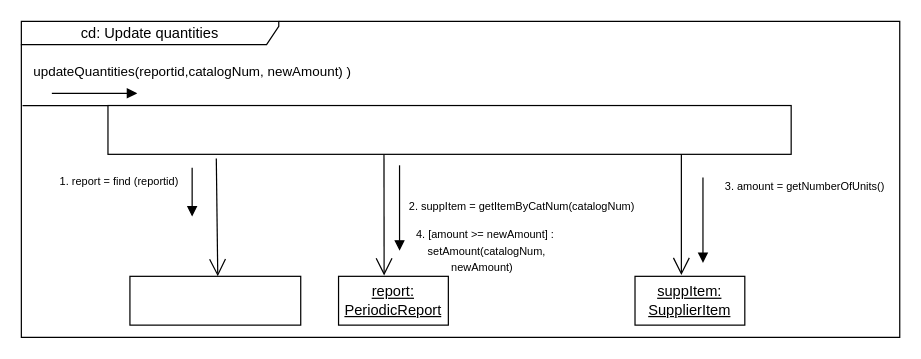
This 921x359 diagram has some shape labels left out. Here are the shapes that lost their labels. From the top down, the box of each, then its label:
(107, 104, 791, 154): orderController: OrderController
(129, 275, 301, 325): reportDataMap: PeriodicReportDataMapper
